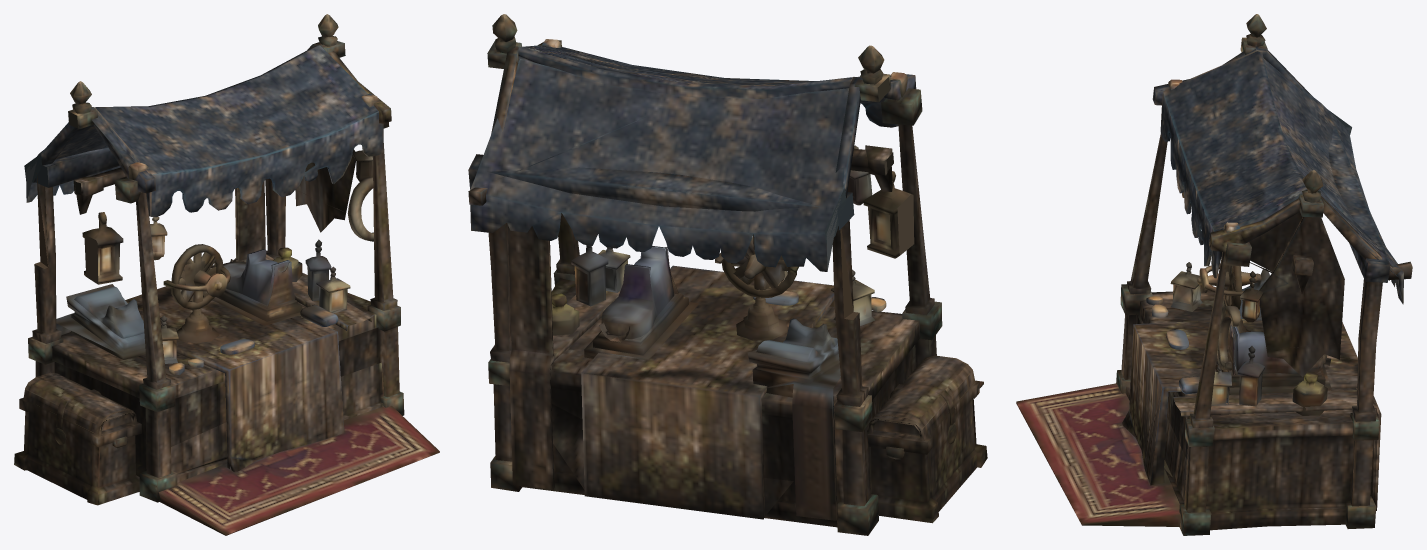
Rendered from cosmic.glb.
3 views of the same model, side by side, from view 1: azimuth 30°, elevation 25°; view 2: azimuth 150°, elevation 25°; view 3: azimuth 270°, elevation 25° (orthographic). The views are drawn at different scales.
Visible parts, largest first — view 1: market_stall_cosmic; view 2: market_stall_cosmic; view 3: market_stall_cosmic.
Part boxes in pixels (<box>): market_stall_cosmic: <box>14,14,439,535</box>; market_stall_cosmic: <box>468,14,987,535</box>; market_stall_cosmic: <box>1016,14,1412,535</box>.
Size of the model in its own units: 3 by 3.14 by 2.9.
1 material, 1 textured.
